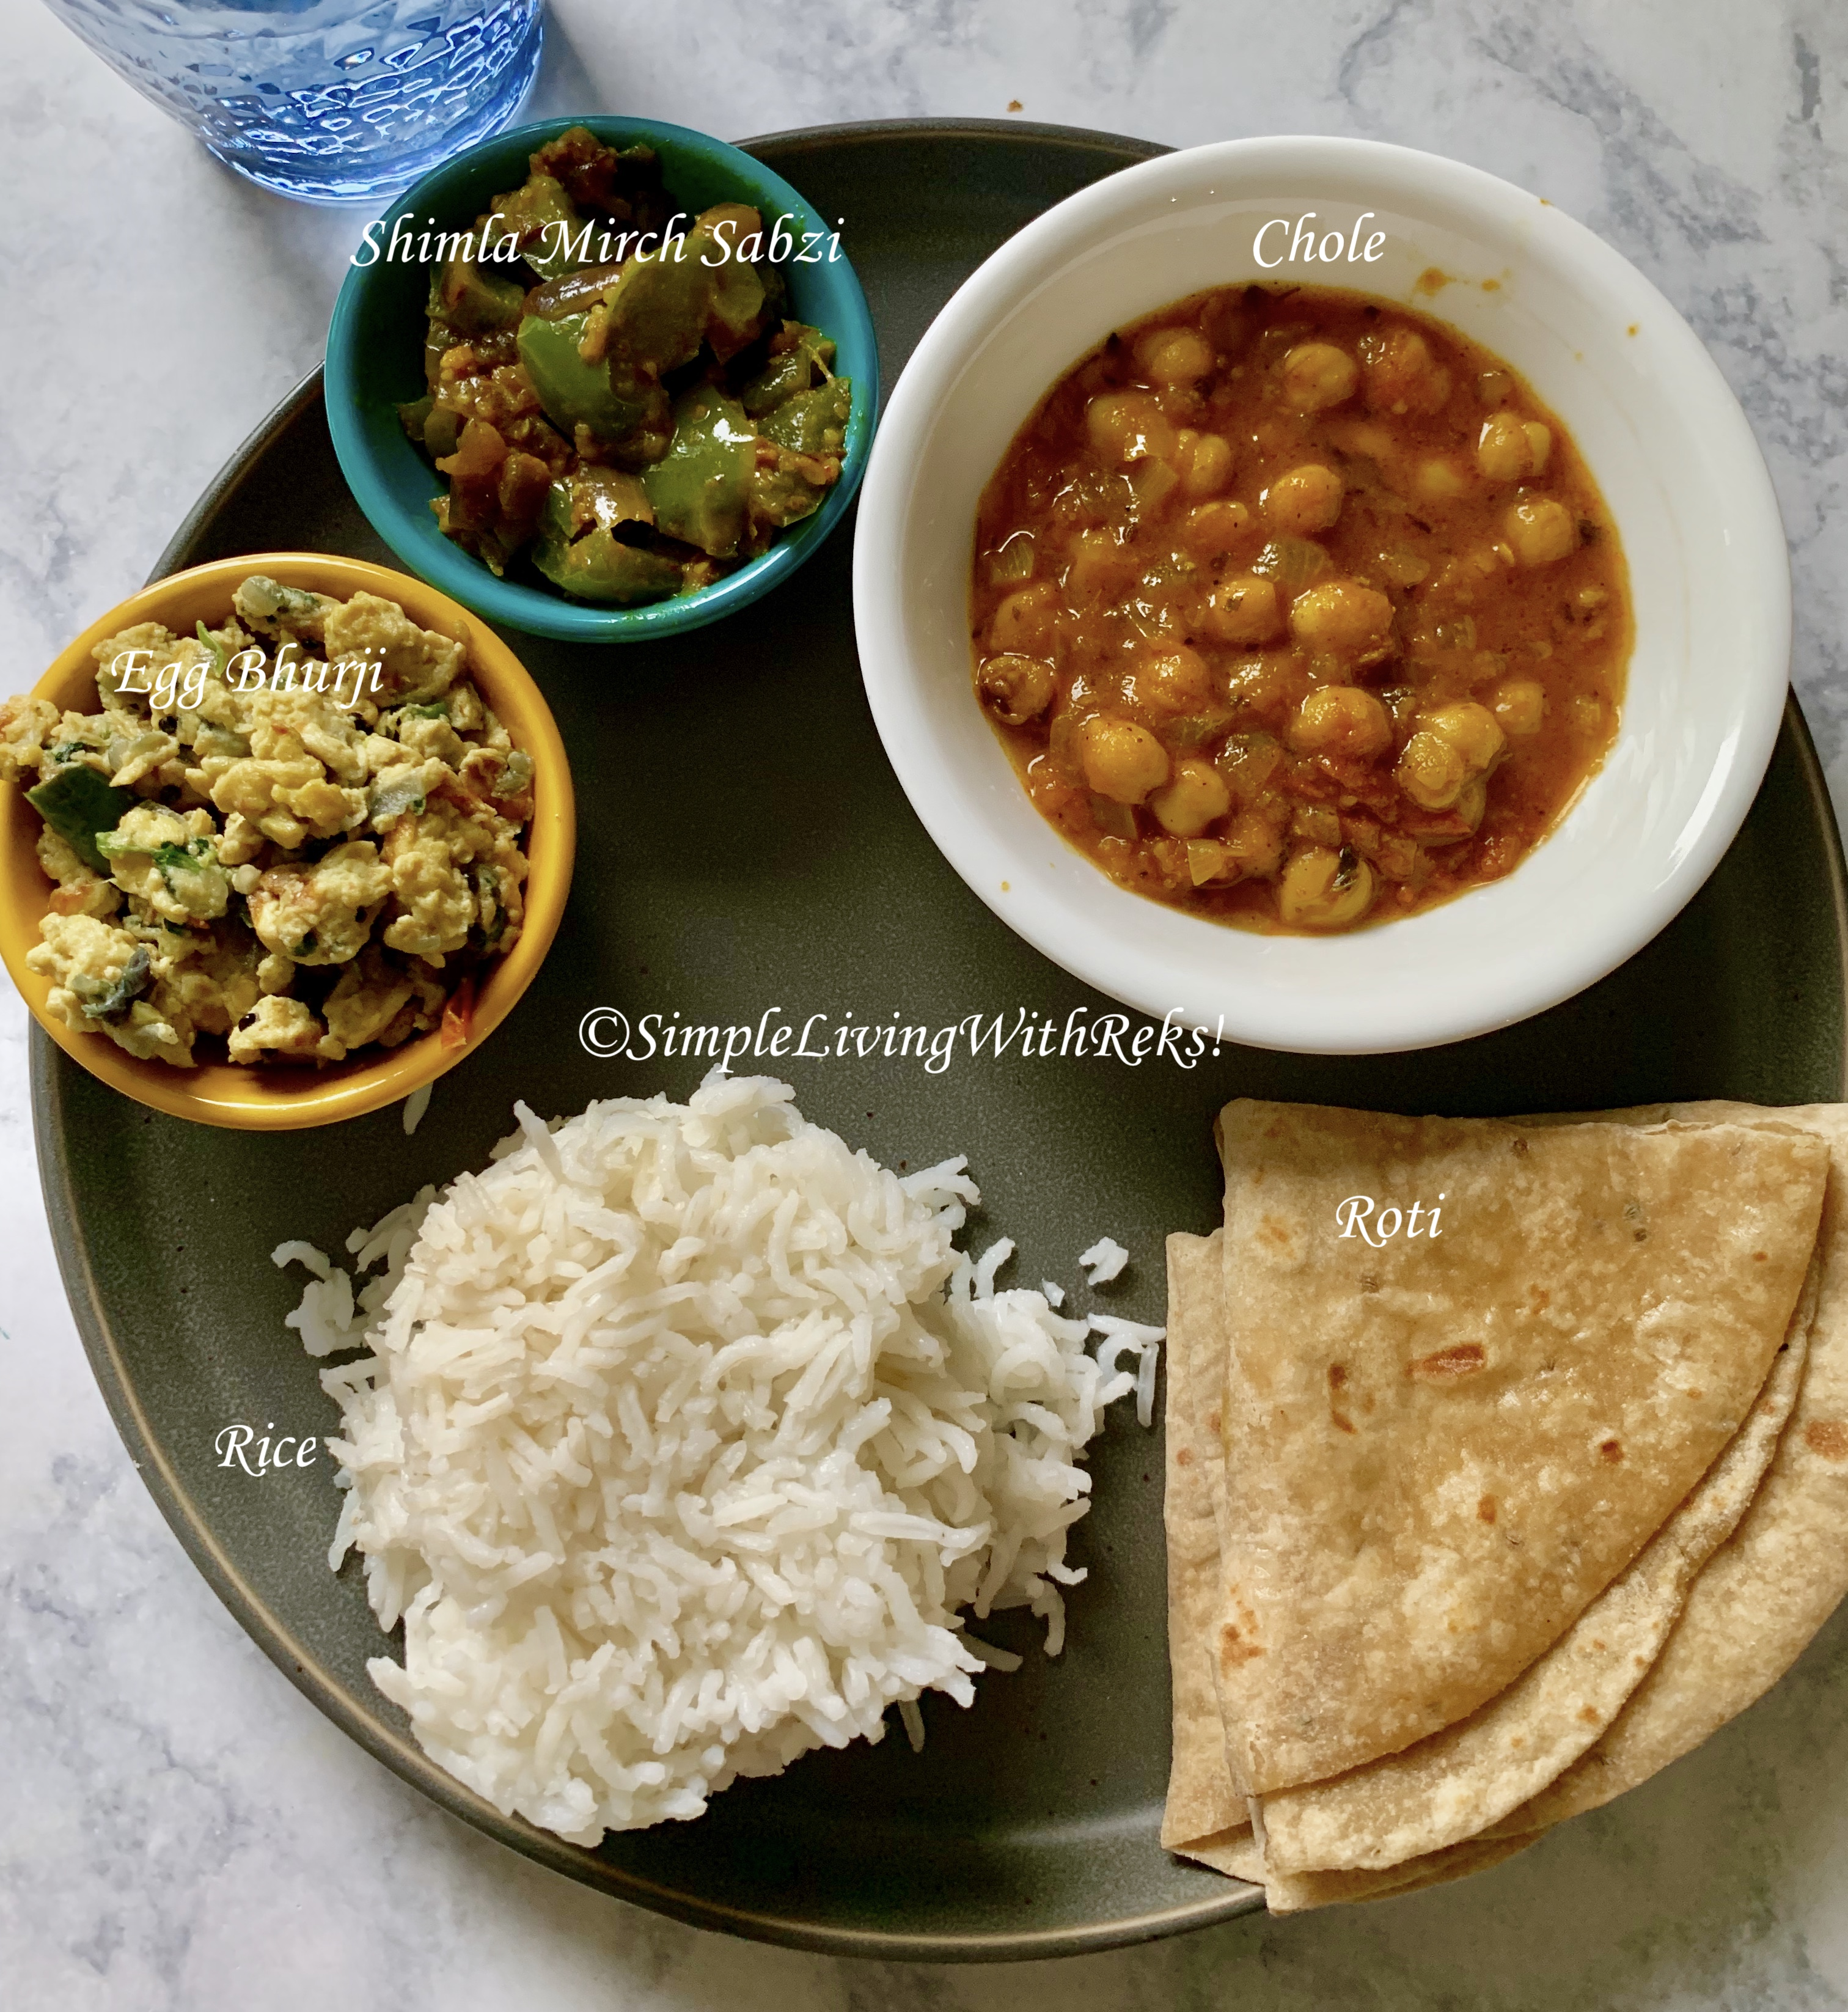curry: (930, 231, 1715, 918), (357, 102, 841, 640)
rice: (331, 1148, 1000, 1777)
roti: (1189, 1081, 1848, 1912)
